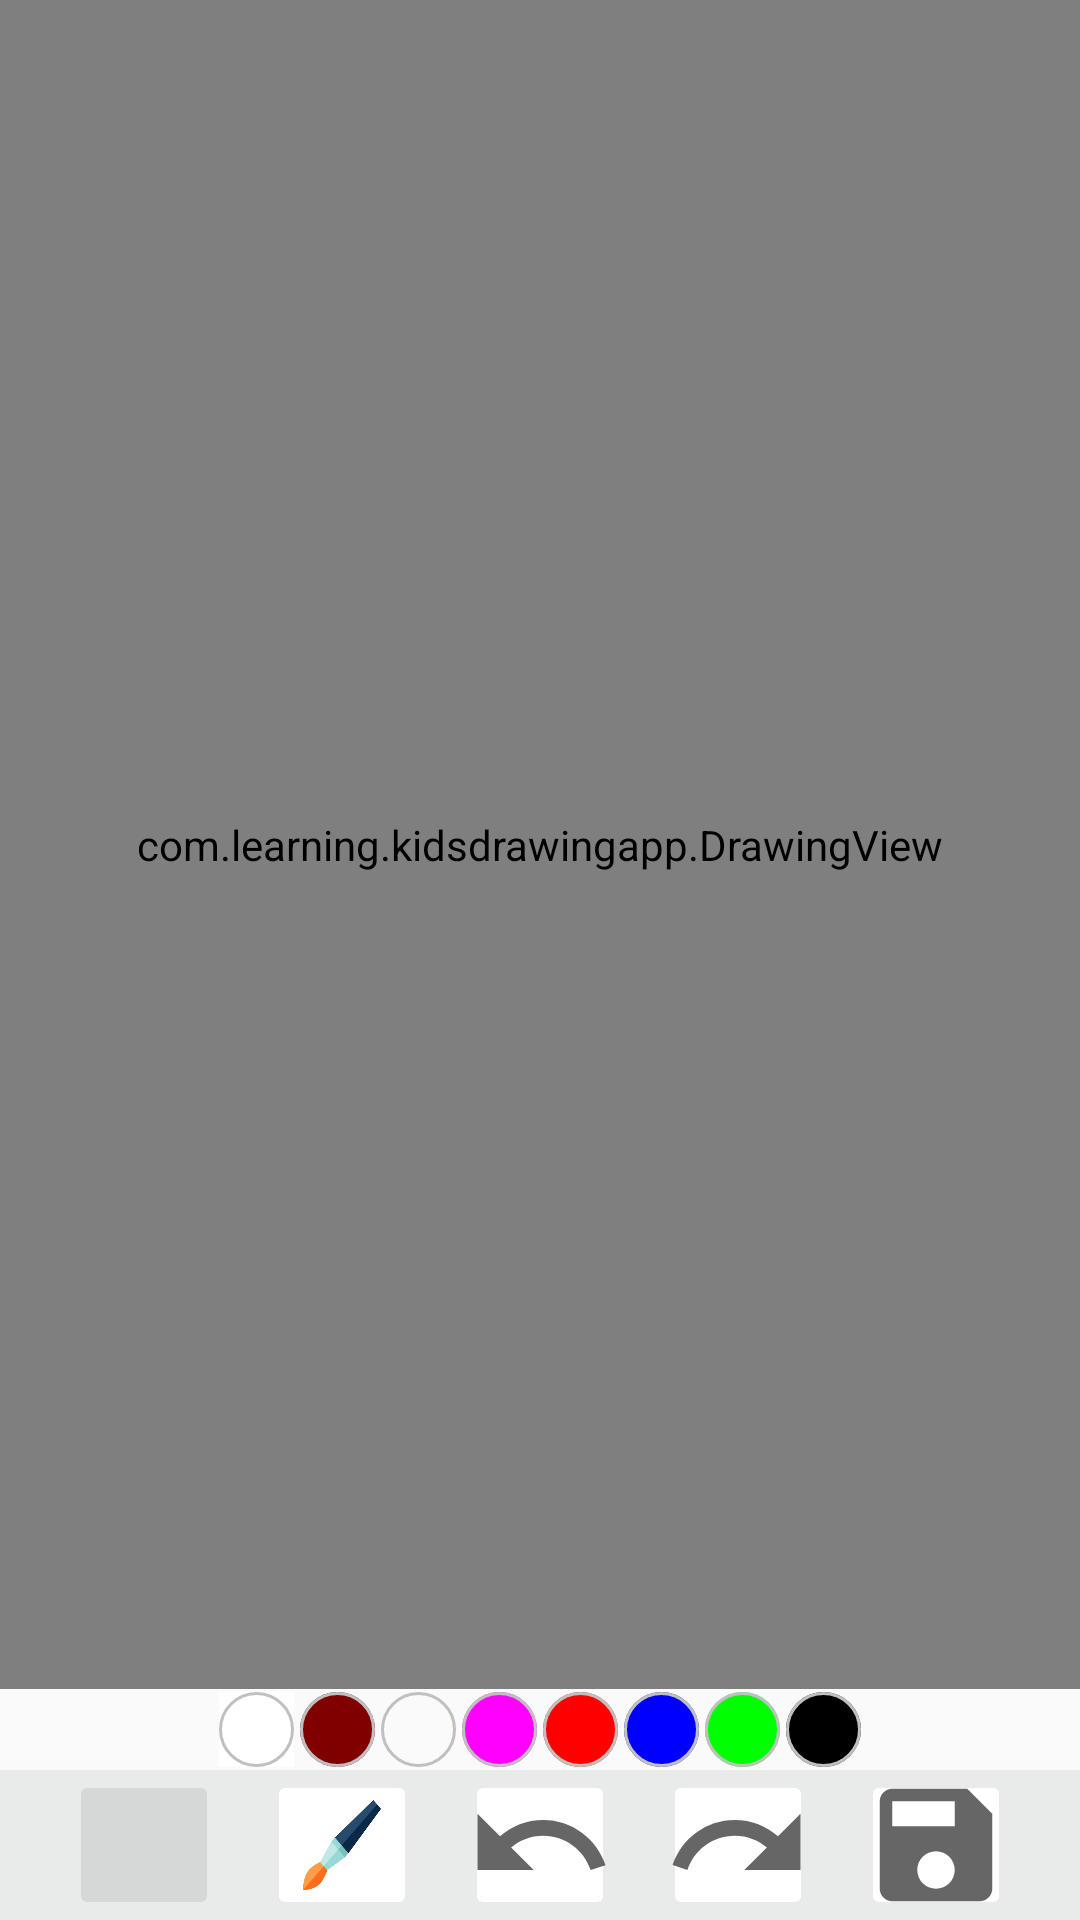

Locate icon controls on the screen. Image size 1080*1920, boxes as [left=x1, top=y1, right=x2, bottom=y2].
brushmy: [left=279, top=1788, right=405, bottom=1902]
redo: [left=672, top=1788, right=801, bottom=1902]
save: [left=880, top=1789, right=992, bottom=1901]
undo: [left=477, top=1788, right=606, bottom=1902]
